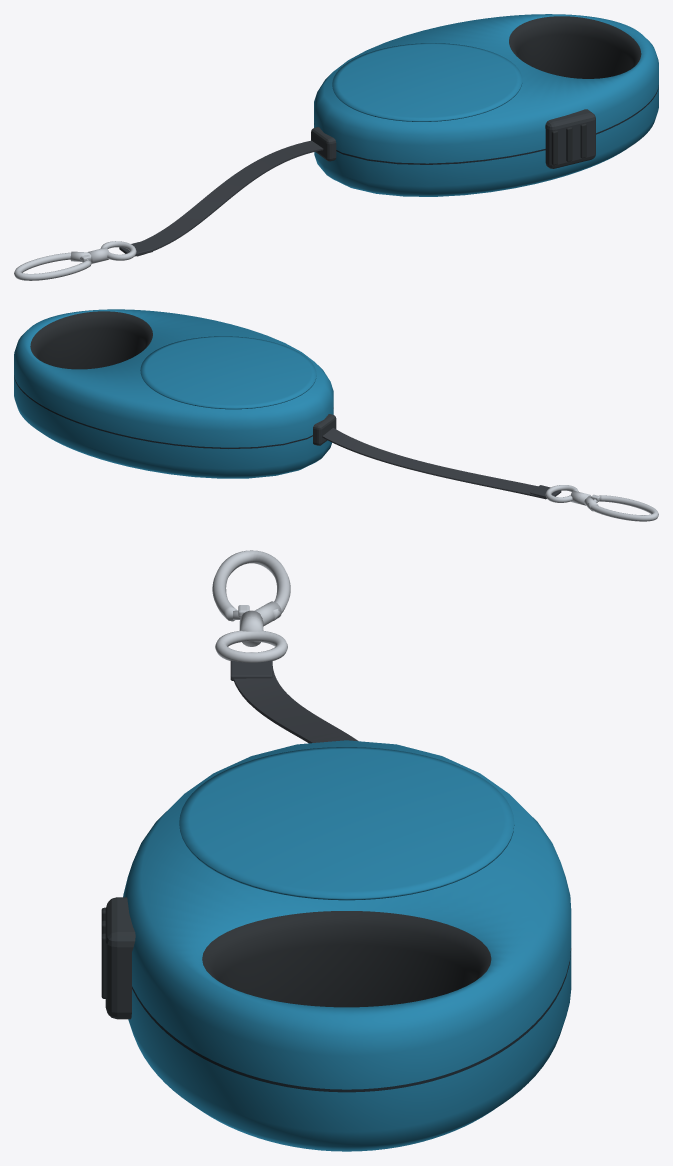
File: retractable_leash_LOD1.fbx
3 renders of one model, top to bottom at view 1: azimuth 30°, elevation 25°; view 2: azimuth 150°, elevation 25°; view 3: azimuth 270°, elevation 25°, orthographic. The views are drawn at different scales.
Visible parts, largest first — view 1: Housing_with_integrated_oval_grip, Reel_side_cover, Short_flat_webbing, Thumb_brake, Snap_hook_frame, Tape_outlet_collar, Snap_attachment_eye; view 2: Housing_with_integrated_oval_grip, Reel_side_cover, Short_flat_webbing, Snap_hook_frame, Tape_outlet_collar, Snap_attachment_eye; view 3: Housing_with_integrated_oval_grip, Reel_side_cover, Short_flat_webbing, Thumb_brake, Snap_hook_frame, Snap_attachment_eye.
Part boxes in pixels (<box>): Housing_with_integrated_oval_grip: <box>314,14,658,196</box>; Reel_side_cover: <box>332,43,522,121</box>; Short_flat_webbing: <box>136,140,323,256</box>; Thumb_brake: <box>545,109,595,168</box>; Snap_hook_frame: <box>14,252,91,280</box>; Tape_outlet_collar: <box>311,127,336,161</box>; Snap_attachment_eye: <box>100,241,136,260</box>; Housing_with_integrated_oval_grip: <box>14,309,333,478</box>; Reel_side_cover: <box>140,336,316,409</box>; Short_flat_webbing: <box>322,428,545,499</box>; Snap_hook_frame: <box>587,495,658,521</box>; Tape_outlet_collar: <box>313,414,336,445</box>; Snap_attachment_eye: <box>545,485,578,502</box>; Housing_with_integrated_oval_grip: <box>123,740,571,1151</box>; Reel_side_cover: <box>179,747,514,900</box>; Short_flat_webbing: <box>234,666,358,743</box>; Thumb_brake: <box>105,897,135,1019</box>; Snap_hook_frame: <box>212,550,290,621</box>; Snap_attachment_eye: <box>215,630,287,662</box>.
Size of the model in its own units: 36.98 by 4.05 by 12.34.
